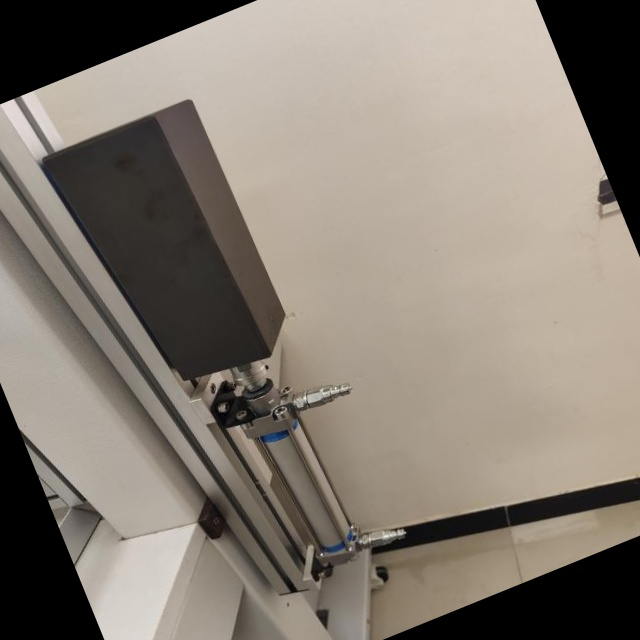load: (22, 75, 422, 629)
